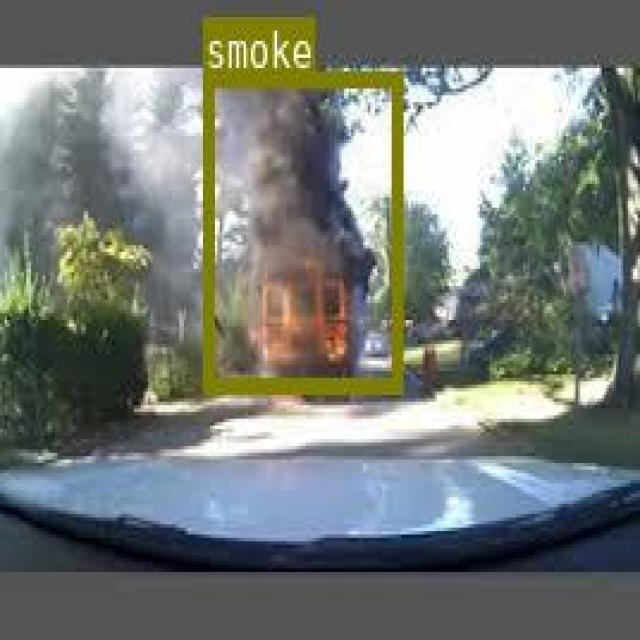smoke: (202, 69, 401, 390)
